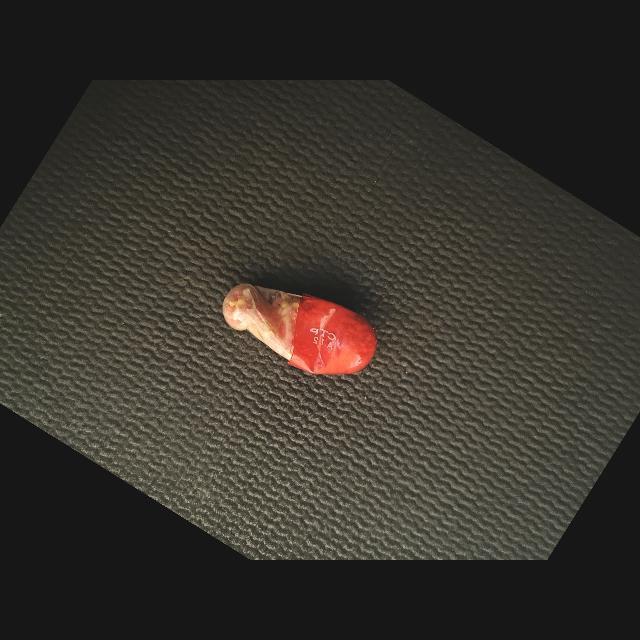Defective Capsule: (222, 283, 376, 374)
